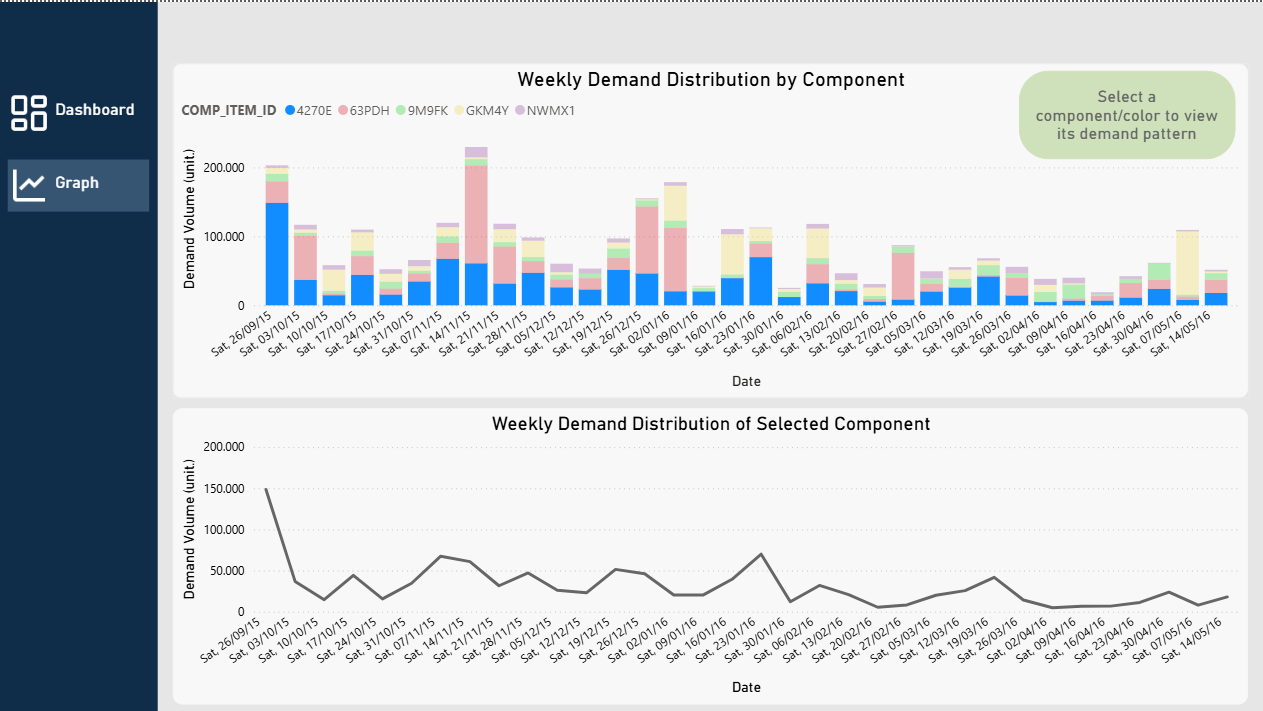

What the dashboard file says about the page in this screenshot:
{"tool":"powerbi","page":{"name":"Página 2","canvas":[1280,720],"ordinal":1},"visuals":[{"type":"shape","box":[0,0,1280.1,719.9],"z":0},{"type":"textbox","box":[51,93.4,100.3,44.3],"z":0,"group":"g1"},{"type":"actionButton","box":[8.3,86.6,143.1,52.3],"z":500,"group":"g1"},{"type":"shape","box":[0,0,160.7,719.6],"z":1000},{"type":"image","box":[8.7,86.1,42.9,52.5],"z":1000,"group":"g1"},{"type":"group","id":"g1","title":"Botão dashboard","box":[8.3,86.1,143.1,54.2],"z":2000},{"type":"group","id":"g2","title":"Botão graph","box":[8.3,159.7,143.1,52.8],"z":3000},{"type":"lineChart","title":"Weekly Demand Distribution of Selected Component","fields":{"Y":["Sheet1.Selected Demand"],"Category":["Sheet1.Data Label"]},"box":[176.4,411.1,1088.9,300],"z":4000},{"type":"lineStackedColumnComboChart","title":"Weekly Demand Distribution by Component","fields":{"Category":["Sheet1.Data Label"],"Y":["Sum(Sheet1.MRP_FCST_QTY)"],"Series":["Sheet1.COMP_ITEM_ID"]},"box":[176.4,62.5,1088.9,338.9],"z":5000},{"type":"textbox","box":[1032.9,69.6,219,89.9],"z":5001},{"type":"textbox","box":[177.2,15.2,374.7,38],"z":5002},{"type":"actionButton","box":[8.3,159.7,143.1,52.4],"z":9500,"group":"g2"},{"type":"image","box":[8.7,159.8,42.9,52.6],"z":10000,"group":"g2"},{"type":"textbox","box":[51,167.7,61.3,36.5],"z":11000,"group":"g2"}]}

Visuals, with their boxes on the page's 1280x720 design canvas (x1, y1, x2, y2). These are canvas units, not pixel positions in the 1263x711 screenshot, which may show the page scaled, cropped or inside an application window:
shape: Rect(0, 0, 1280, 720)
textbox: Rect(51, 93, 151, 138)
actionButton: Rect(8, 87, 151, 139)
shape: Rect(0, 0, 161, 720)
image: Rect(9, 86, 52, 139)
"Botão dashboard" group: Rect(8, 86, 151, 140)
"Botão graph" group: Rect(8, 160, 151, 212)
"Weekly Demand Distribution of Selected Component" lineChart: Rect(176, 411, 1265, 711)
"Weekly Demand Distribution by Component" lineStackedColumnComboChart: Rect(176, 62, 1265, 401)
textbox: Rect(1033, 70, 1252, 160)
textbox: Rect(177, 15, 552, 53)
actionButton: Rect(8, 160, 151, 212)
image: Rect(9, 160, 52, 212)
textbox: Rect(51, 168, 112, 204)
